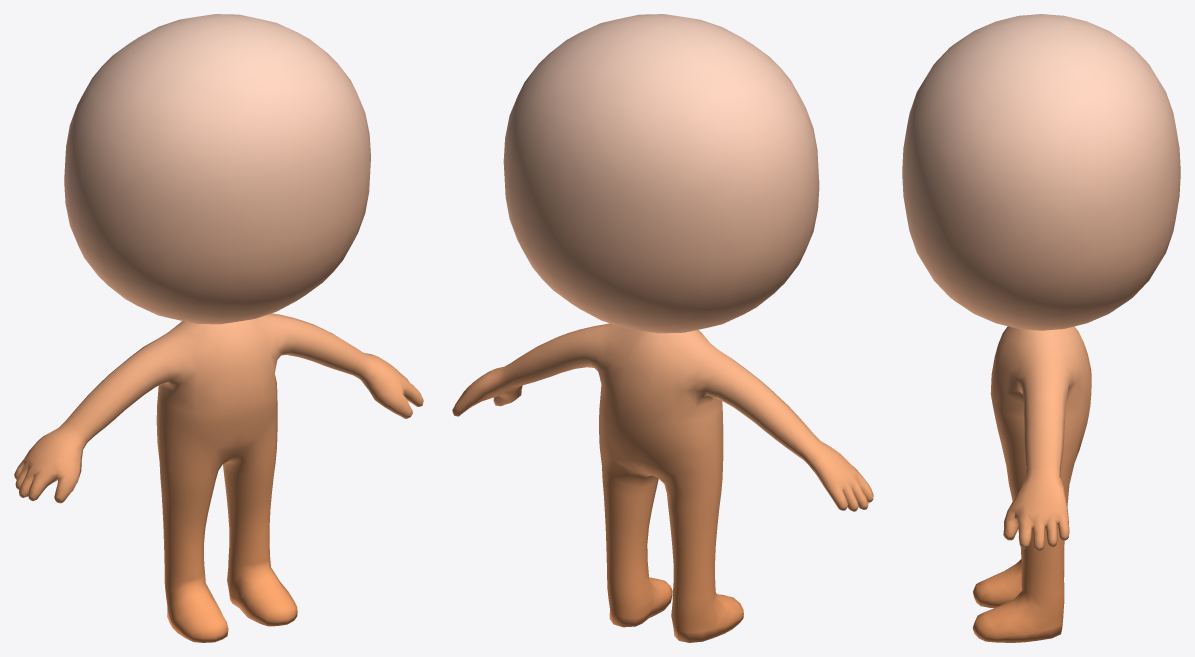
File: Body_09.glb
3 views of the same model, side by side, from view 1: azimuth 30°, elevation 25°; view 2: azimuth 150°, elevation 25°; view 3: azimuth 270°, elevation 25° (orthographic). The views are drawn at different scales.
Visible parts, largest first — view 1: Body_09; view 2: Body_09; view 3: Body_09.
Boxes of the visible parts, bbox=[...] form: Body_09: bbox=[14, 14, 423, 642]; Body_09: bbox=[452, 14, 873, 642]; Body_09: bbox=[902, 14, 1180, 642].
Bounding box in the file's own units: 0.828 × 1.15 × 0.4965.
1 material, 1 textured.
